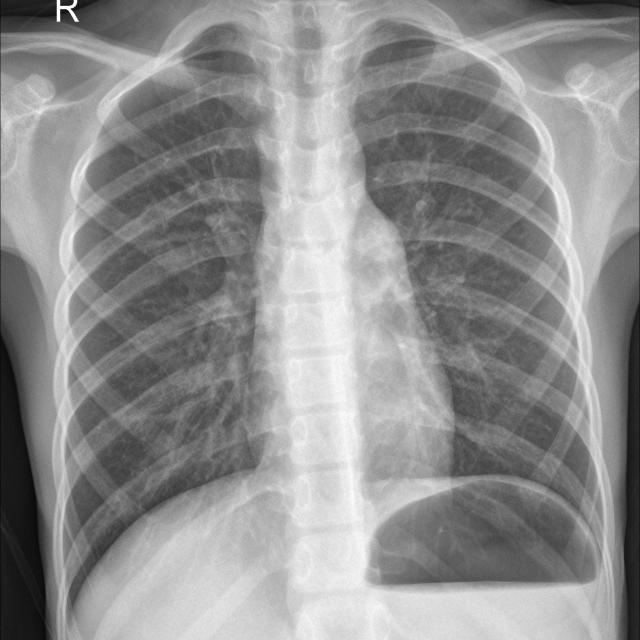no-pneumonia: (59, 25, 270, 603), (355, 36, 601, 527)
